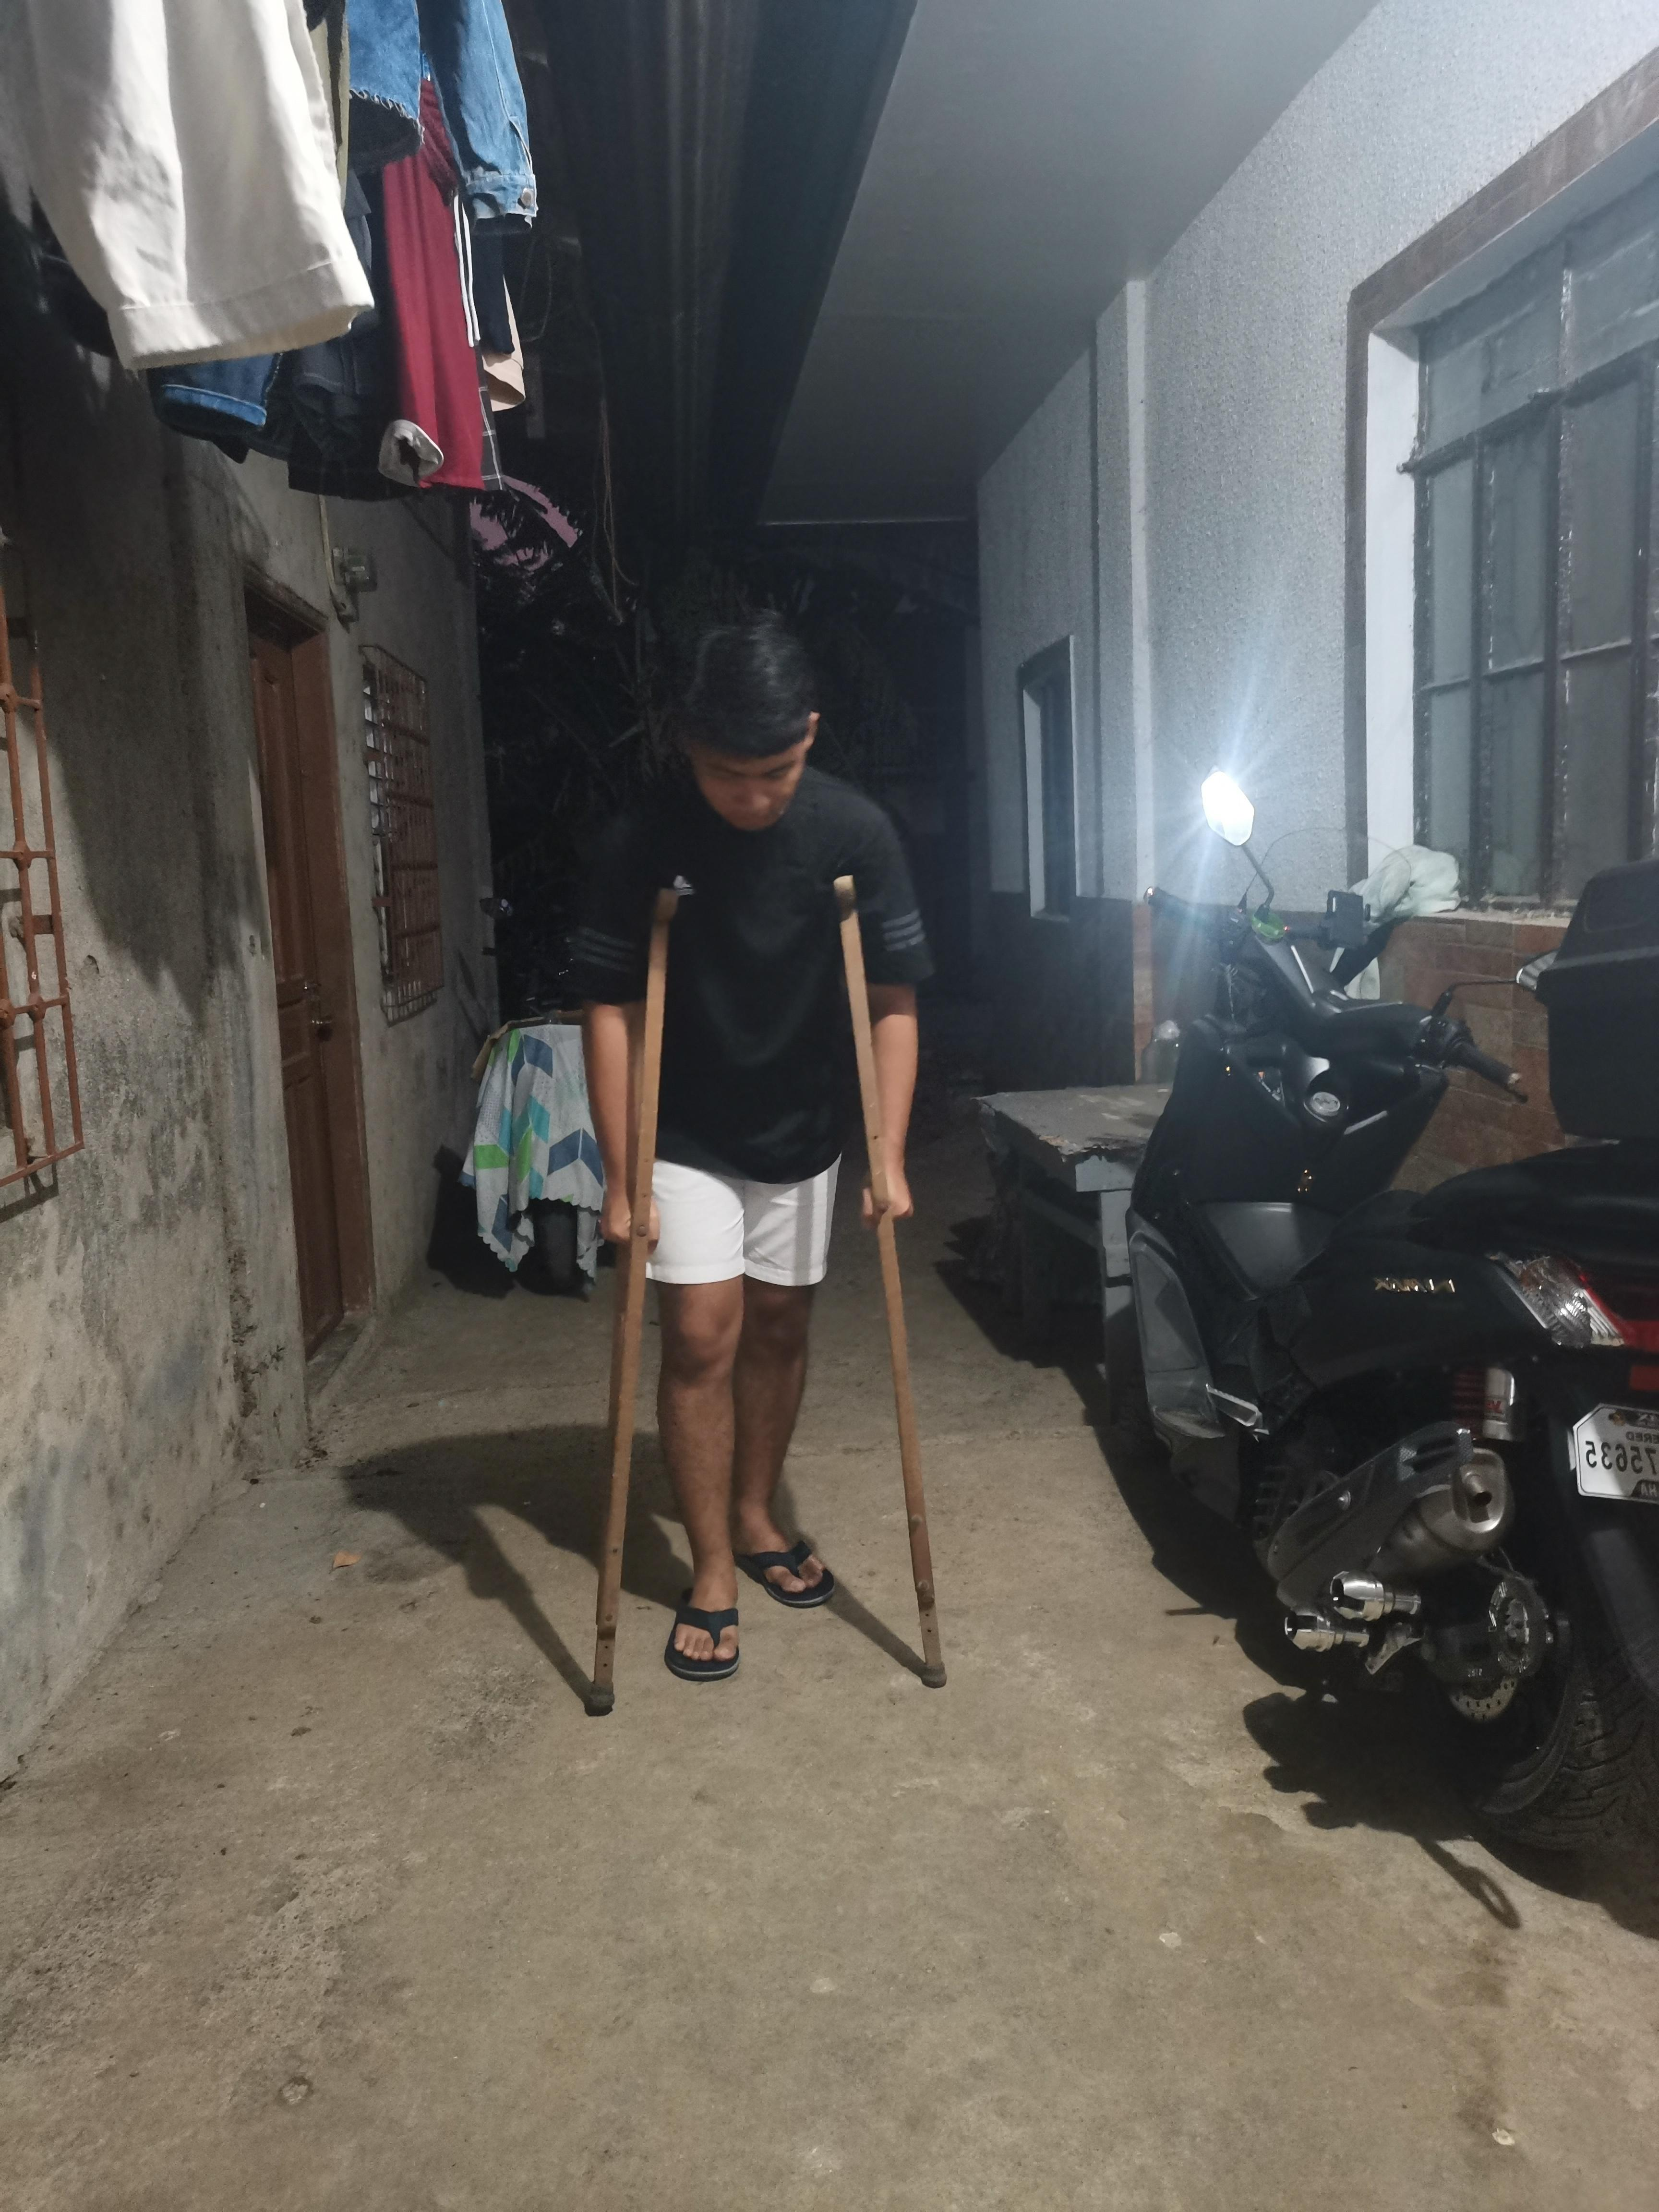crutches: (577, 592, 955, 1721)
